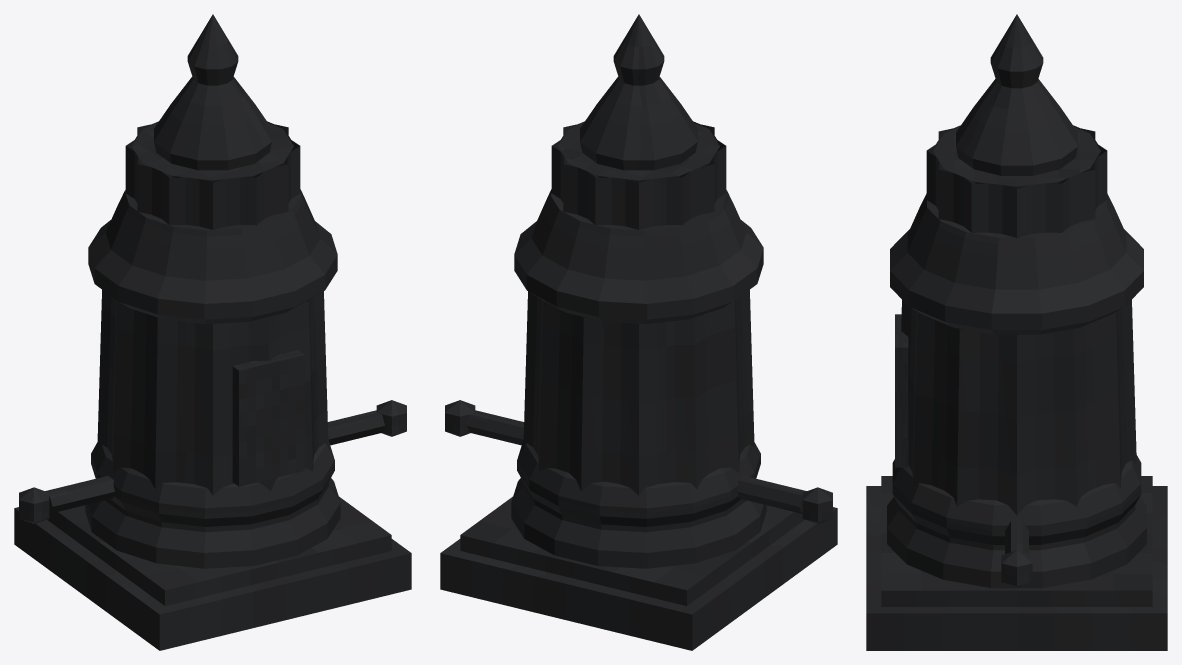
File: decopole_anaheim_inv.obj
3 views of the same model, side by side, from view 1: azimuth 30°, elevation 25°; view 2: azimuth 150°, elevation 25°; view 3: azimuth 270°, elevation 25° (orthographic). The views are drawn at different scales.
Visible parts, largest first — view 1: decopole_anaheim_inv; view 2: decopole_anaheim_inv; view 3: decopole_anaheim_inv.
Boxes of the visible parts, box(x1,y1,x2,y2) form: decopole_anaheim_inv: box(14, 14, 411, 650); decopole_anaheim_inv: box(440, 14, 837, 650); decopole_anaheim_inv: box(866, 14, 1167, 650).
Size of the model in its own units: 0.9633 by 1.31 by 0.625.
